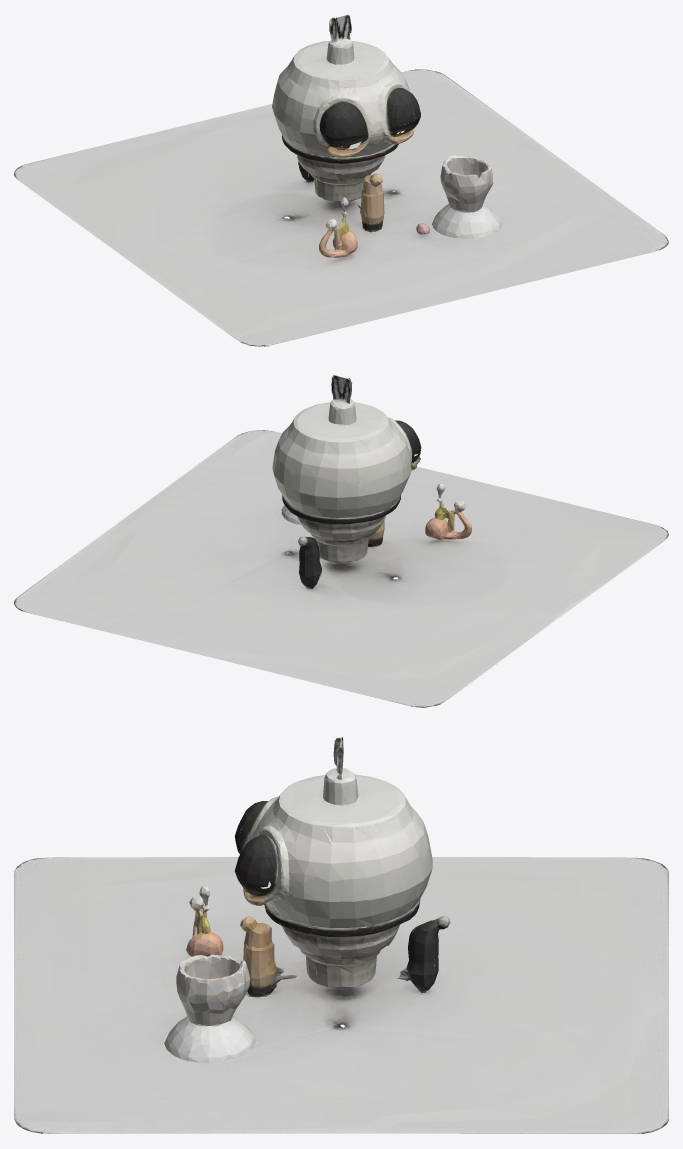
The picture shows the model from 3 angles, top to bottom: view 1: azimuth 30°, elevation 25°; view 2: azimuth 150°, elevation 25°; view 3: azimuth 270°, elevation 25°; orthographic projection. The views are drawn at different scales.
Parts seen in each view (by area): view 1: world; view 2: world; view 3: world.
Part boxes in pixels (left/top/right/bottom): world: left=14, top=14, right=668, bottom=346; world: left=14, top=375, right=668, bottom=707; world: left=14, top=736, right=668, bottom=1133.
Size of the model in its own units: 1 by 0.4362 by 1.
1 material, 1 textured.
